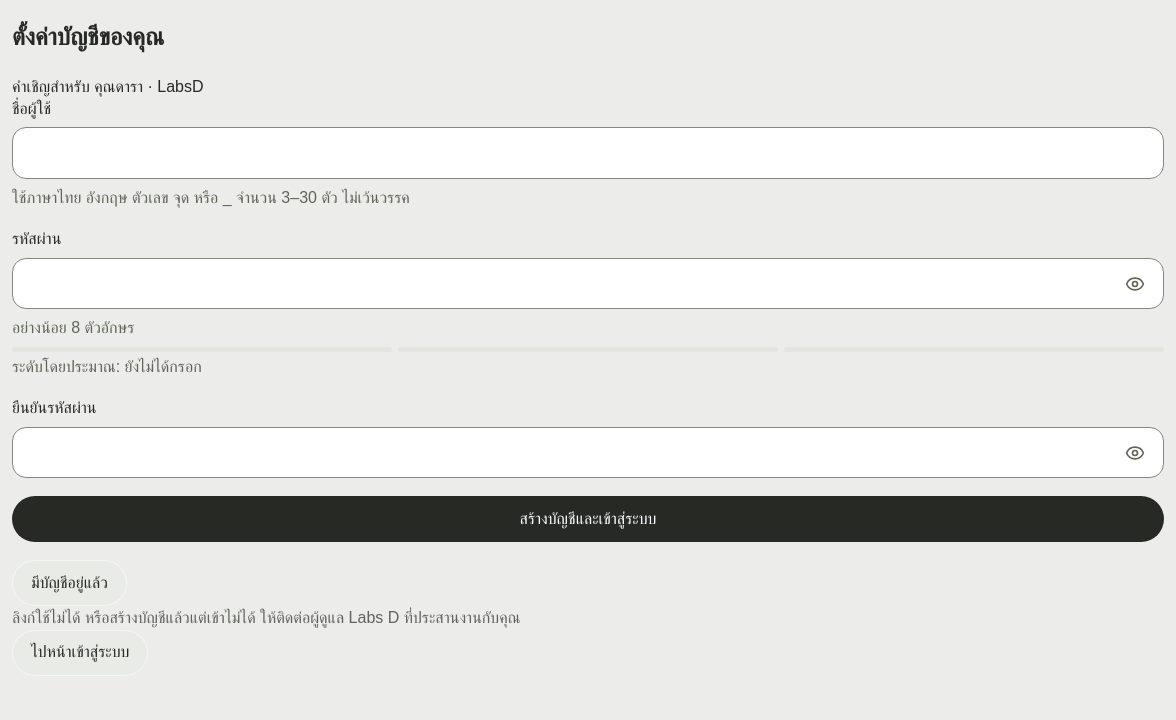
Scenario: invitation credential forms › inspects by POST without a bearer in the URL and leaves rejected validation unsubmitted
This screenshot has width=1176, height=720.
Check: the text "คำเชิญสำหรับ คุณดารา · LabsD" is shown, box left=12, top=78, right=204, bottom=95
Type "star" into the field labelled "ชื่อผู้ใช้". click: (588, 153)
box: left=12, top=127, right=1164, bottom=179
Type "abcdefgh" into the password field labelled "รหัสผ่าน". click: (588, 284)
box: left=12, top=258, right=1164, bottom=309
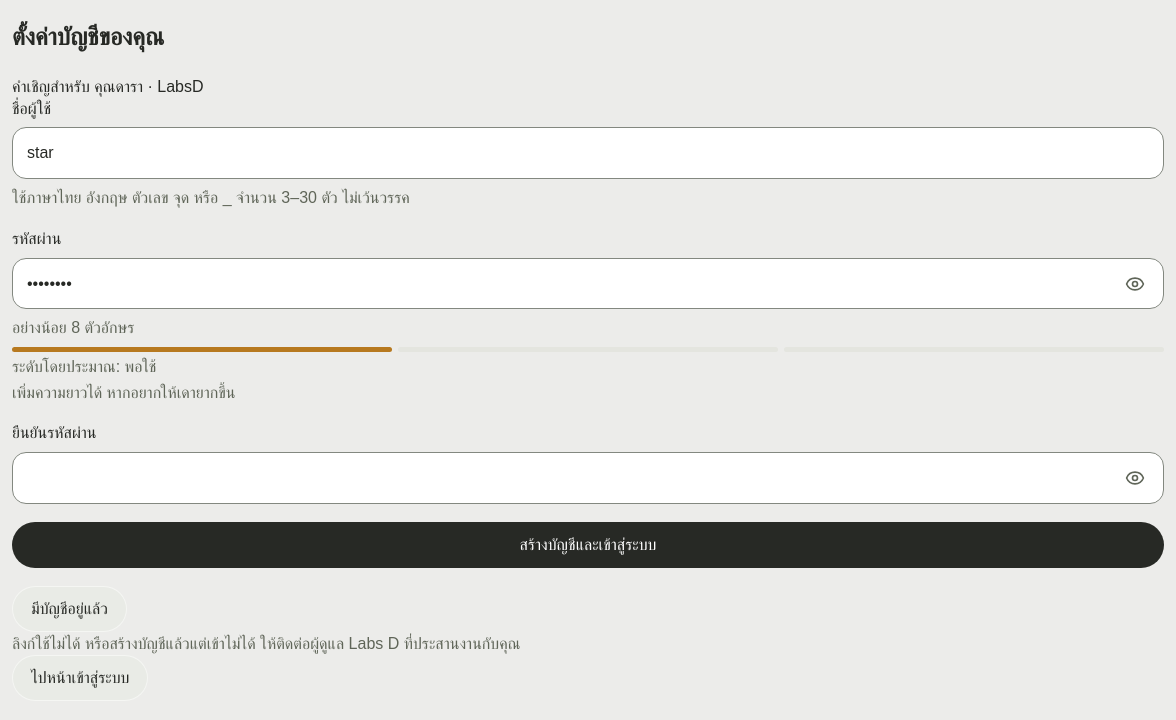
Type "different-password" into the password field labelled "ยืนยันรหัสผ่าน". click: (588, 478)
box: left=12, top=452, right=1164, bottom=504
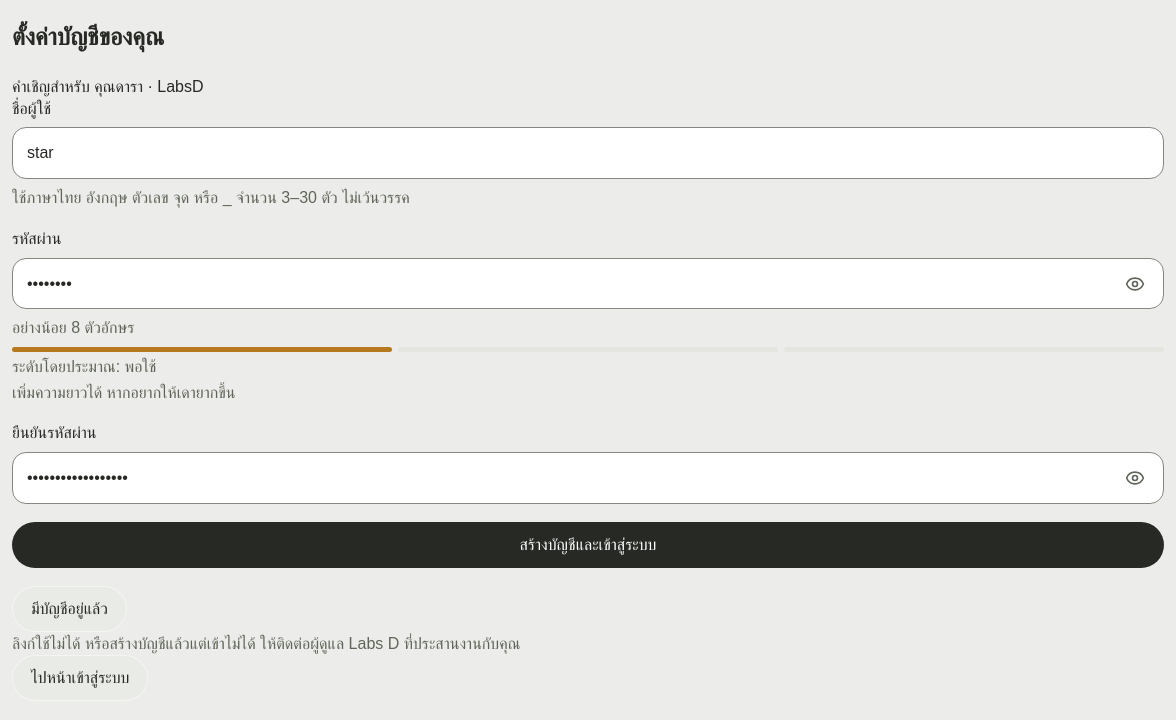
Submit the form named "สร้างบัญชีและเข้าสู่ระบบ"
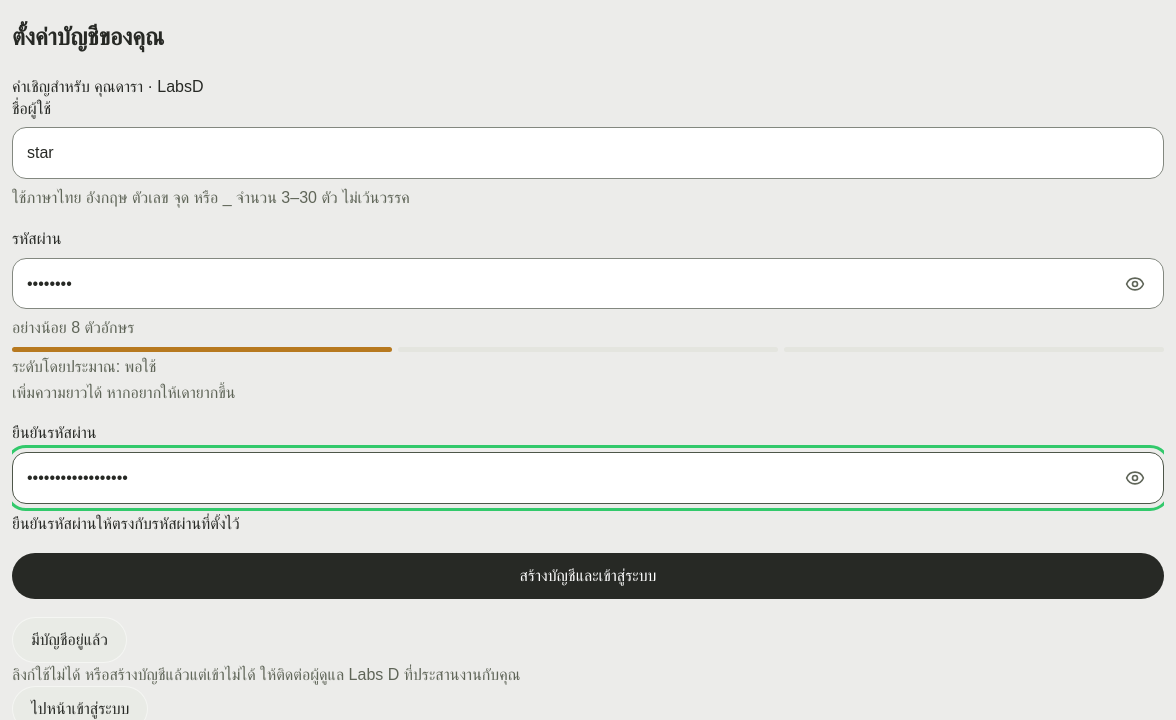
Check: the message shows "ยืนยันรหัสผ่าน", box left=12, top=515, right=240, bottom=532
Replace the text in the field labelled "ชื่อผู้ใช้" with "คุณ ก้อง". click: (588, 153)
box: left=12, top=127, right=1164, bottom=179
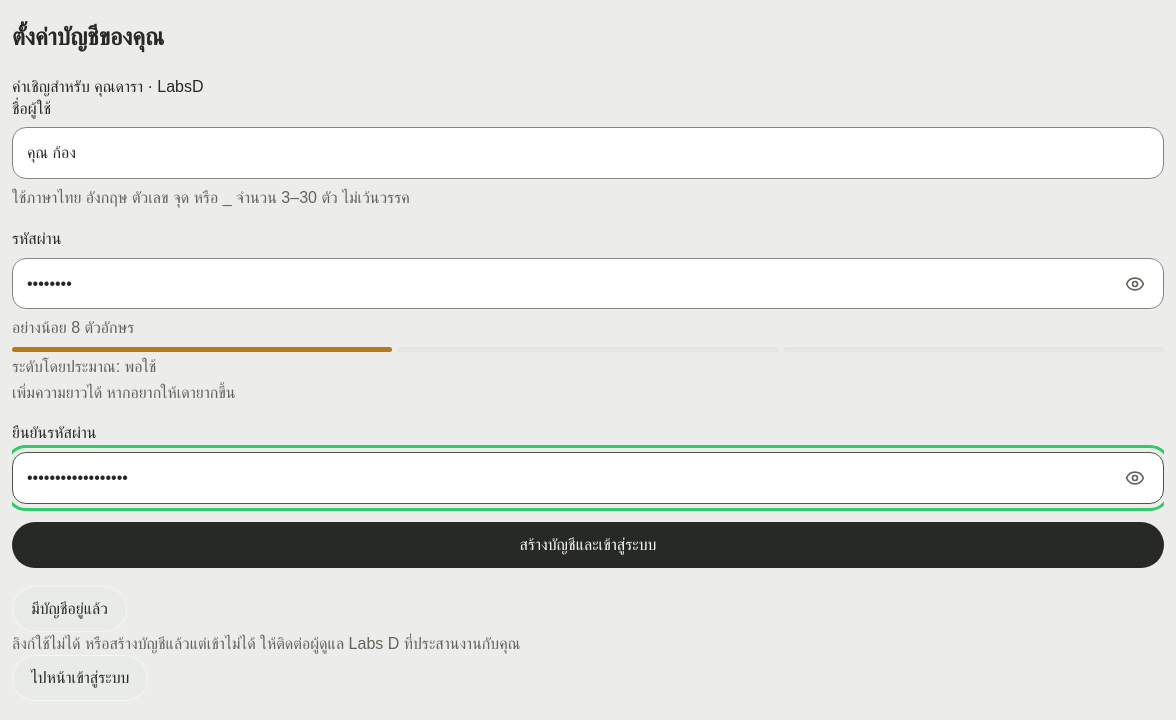
Type "abcdefgh" into the password field labelled "ยืนยันรหัสผ่าน". click: (588, 478)
box: left=12, top=452, right=1164, bottom=504
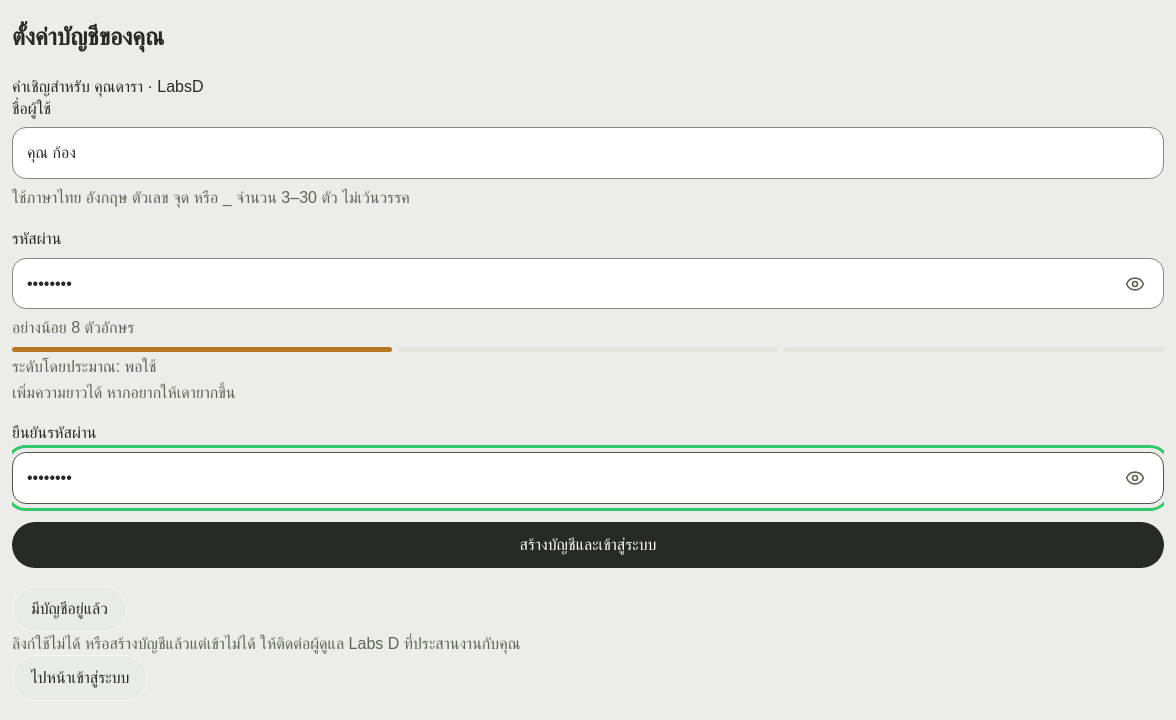
Submit the form named "สร้างบัญชีและเข้าสู่ระบบ"
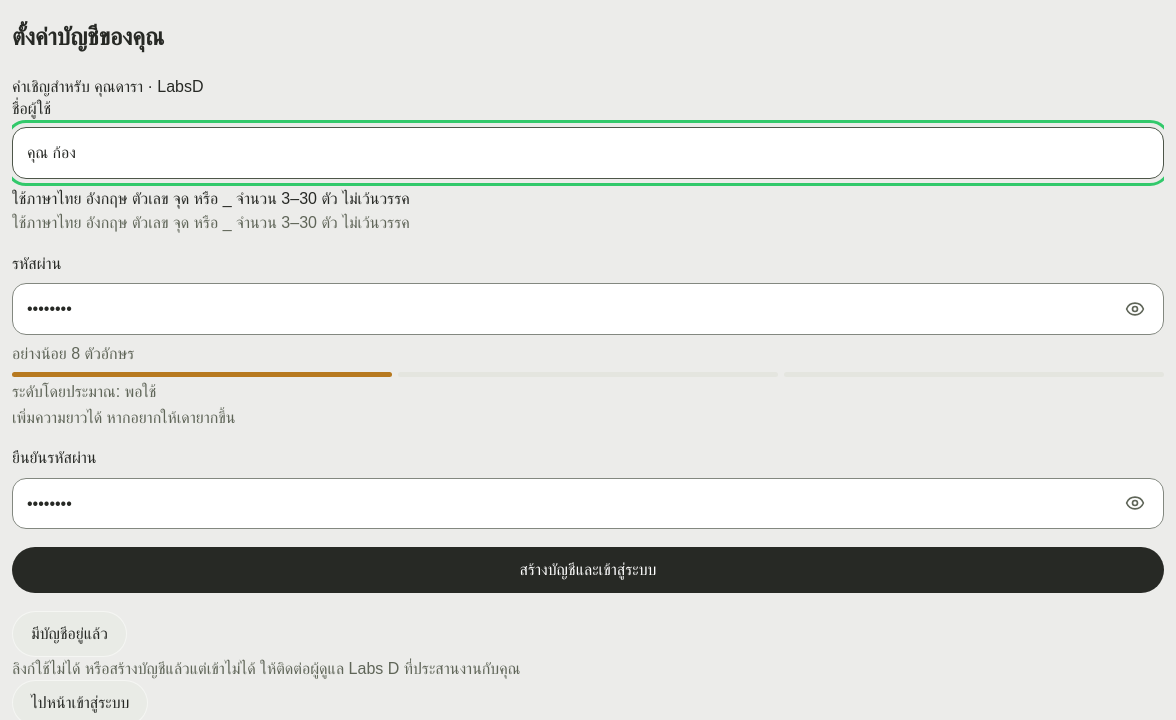
Check: the message shows "ไม่เว้นวรรค", box left=12, top=190, right=410, bottom=207
